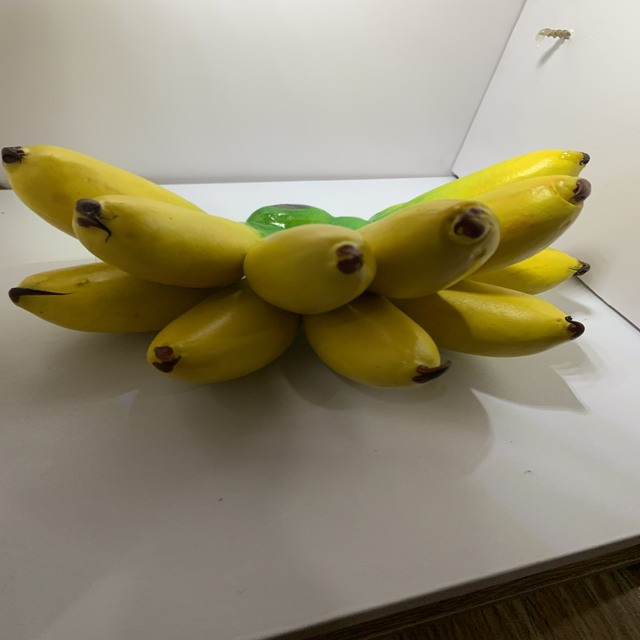Chuoi: (2, 135, 598, 393)
